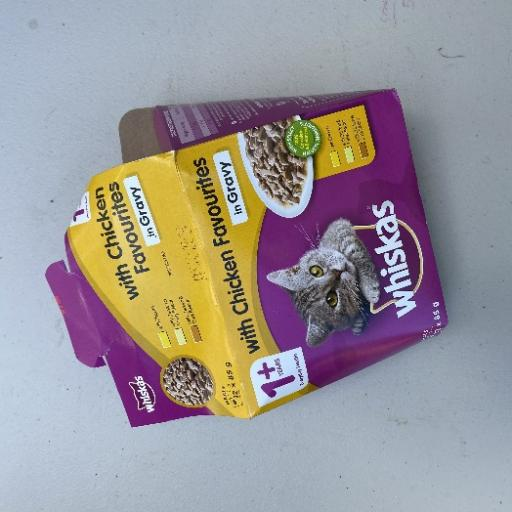Cardboard: (45, 86, 451, 426)
